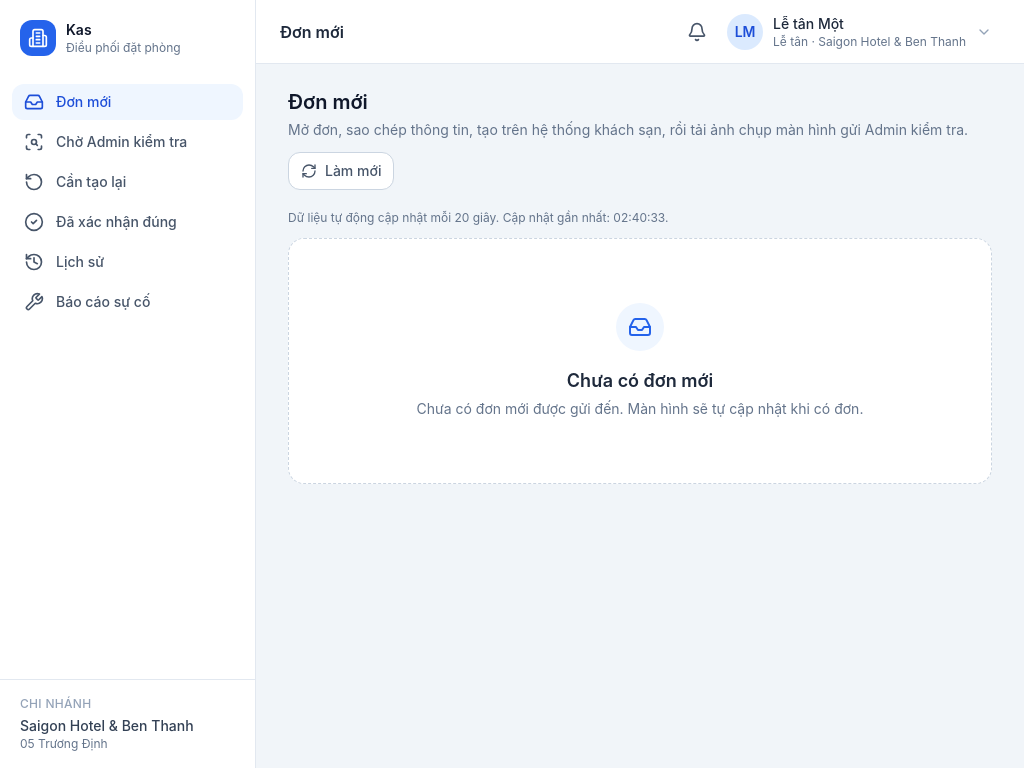
Test: NotificationBell — content and states › shows an error state with retry when notifications fail to load
The width and height of the screenshot is (1024, 768).
Click the button named "Thông báo" at x=697, y=32, box [679,14,715,50]
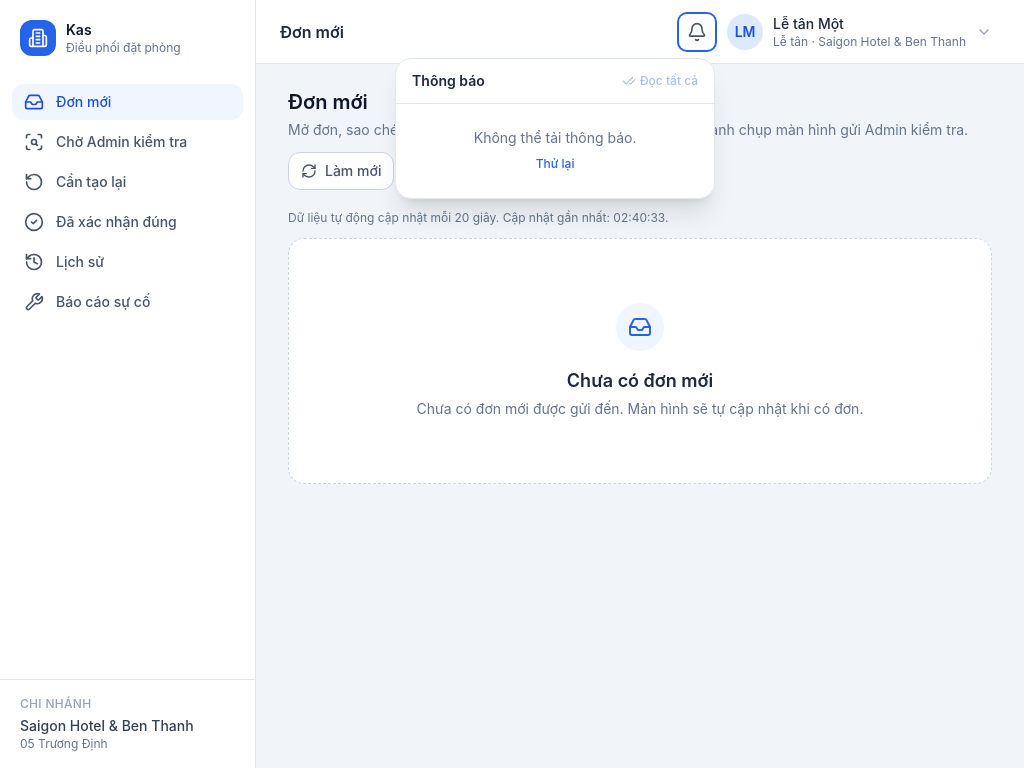
Check: the text "Không thể tải thông báo." is shown, box [474,128,636,146]
